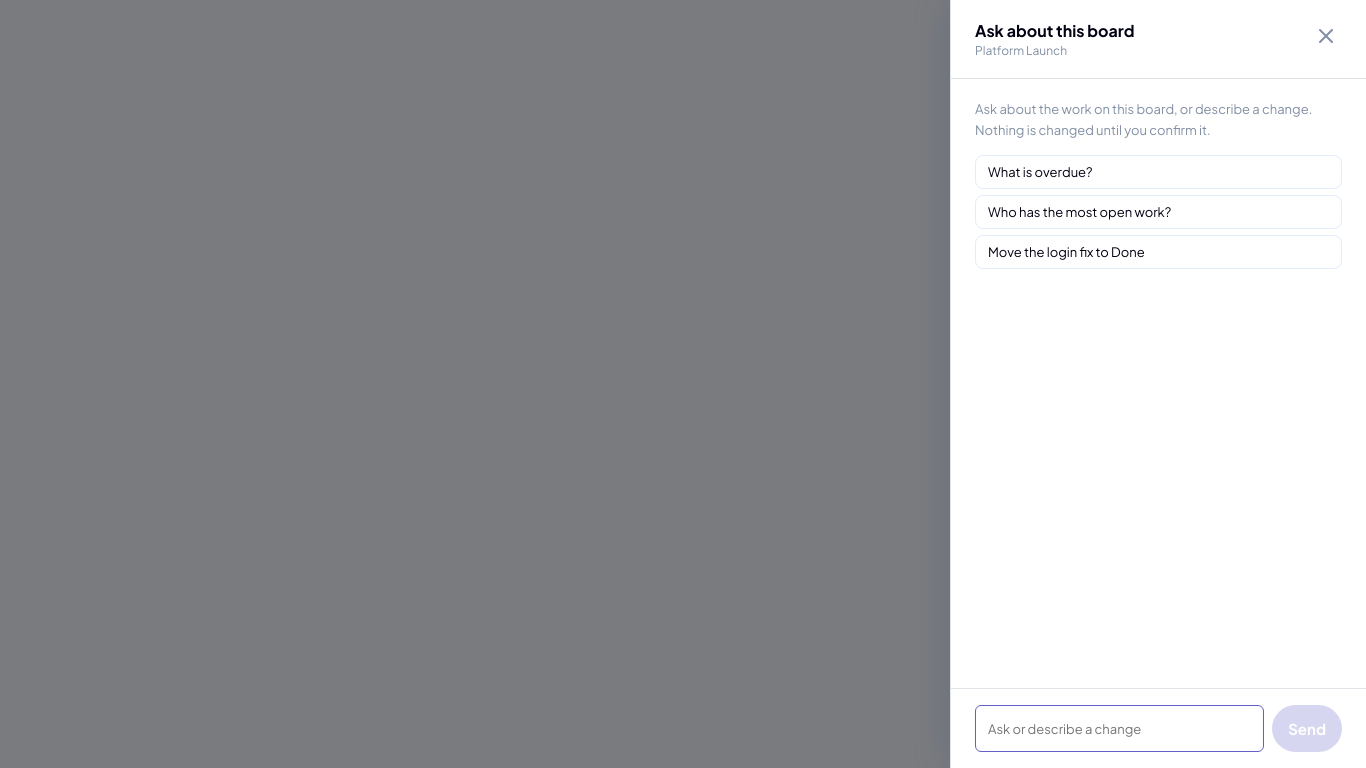
Test: ChatPanel › offers a change without making it, then applies it once confirmed
The image size is (1366, 768).
In the field named "Message": [1120, 728] box top-left (975, 705), bottom-right (1264, 752), type "move the login fix to done"
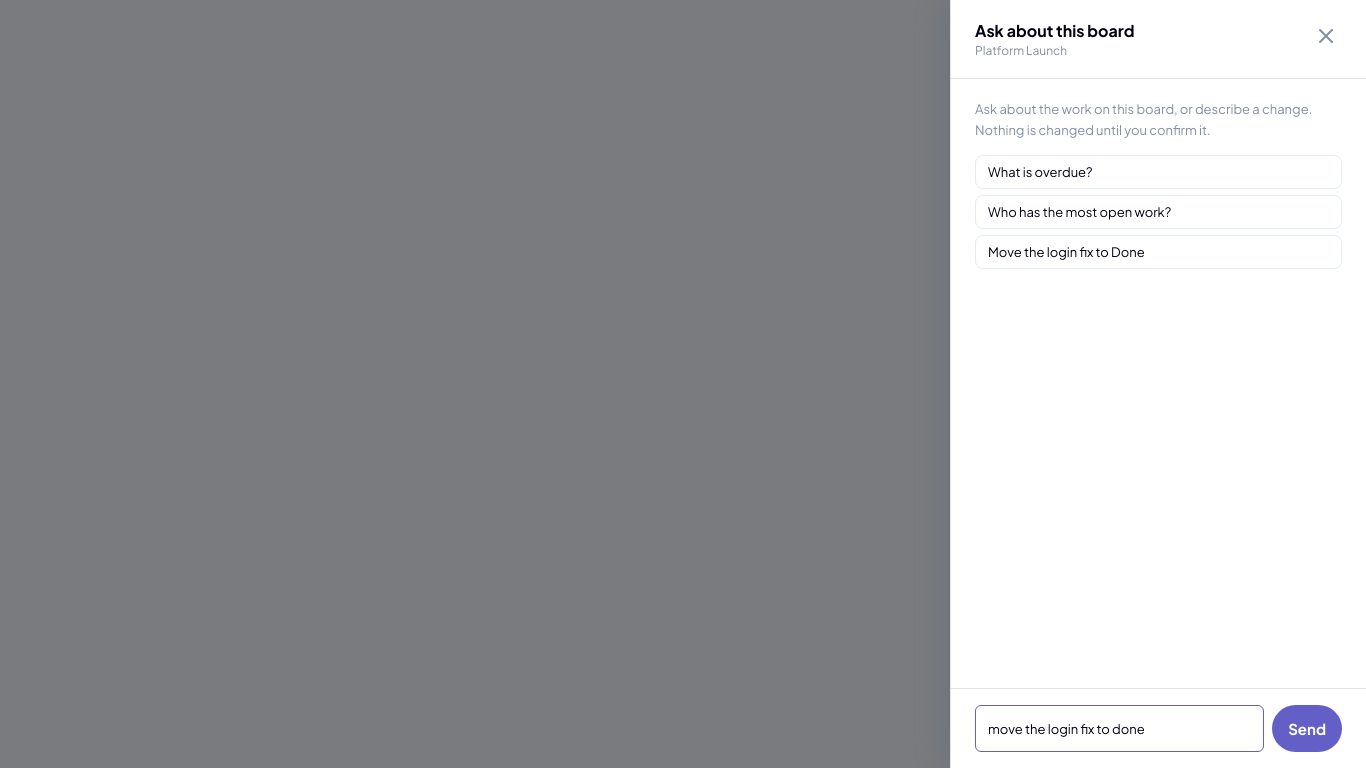
Click the button "Send": [1307, 728] box top-left (1272, 705), bottom-right (1342, 752)
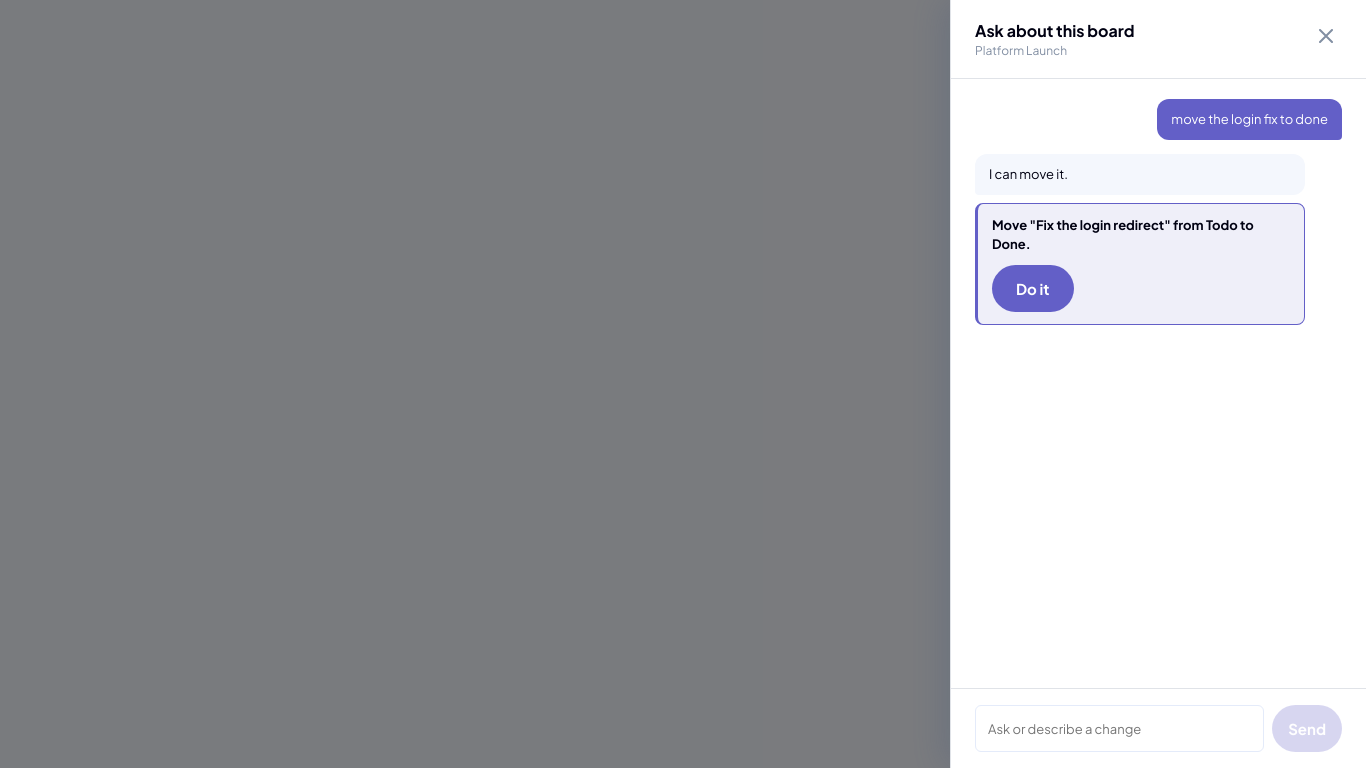
Check: the text "Move \"Fix the login redirect\" from Todo to Done." is shown, box top-left (992, 216), bottom-right (1290, 255)
Click the button "Do it": [1033, 288] box top-left (992, 265), bottom-right (1074, 312)
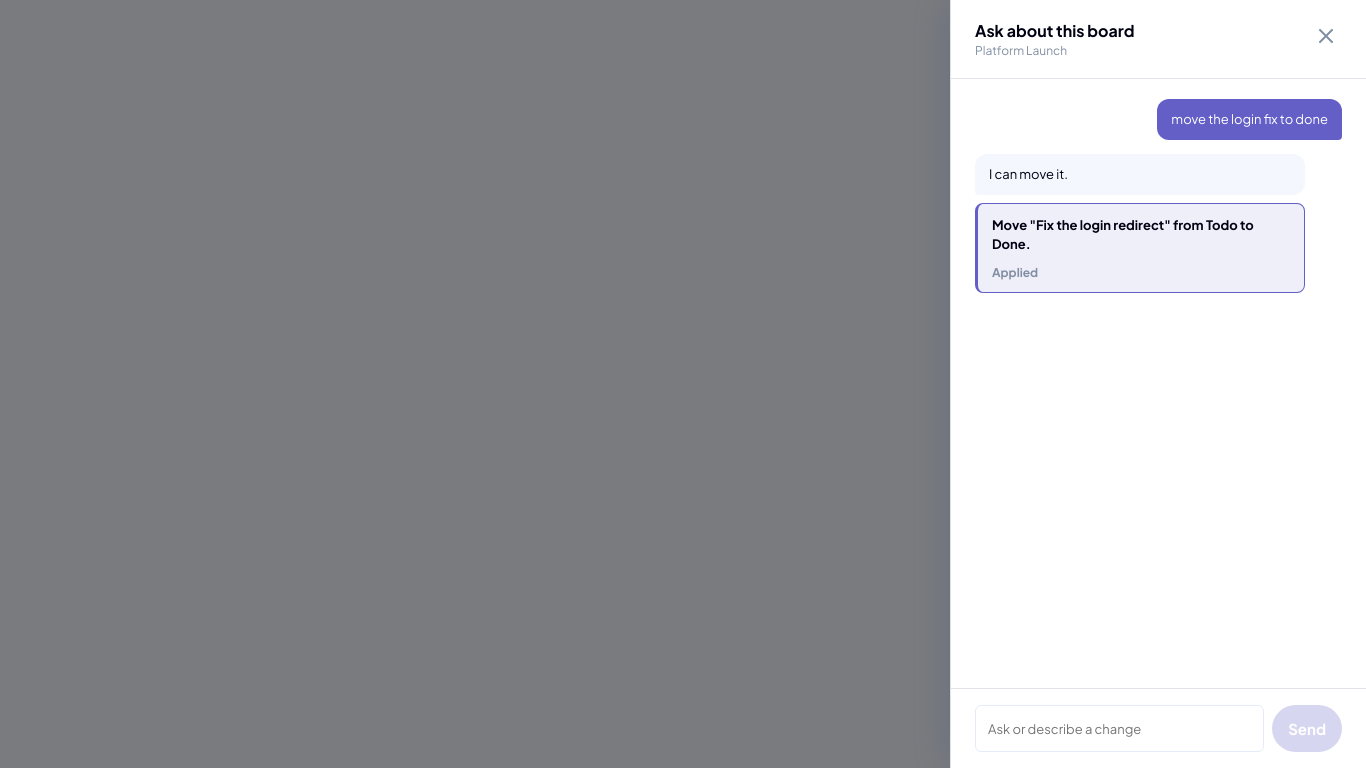
Check: the text "Applied" is shown, box top-left (992, 265), bottom-right (1038, 280)
Check: the button "Do it" is gone
